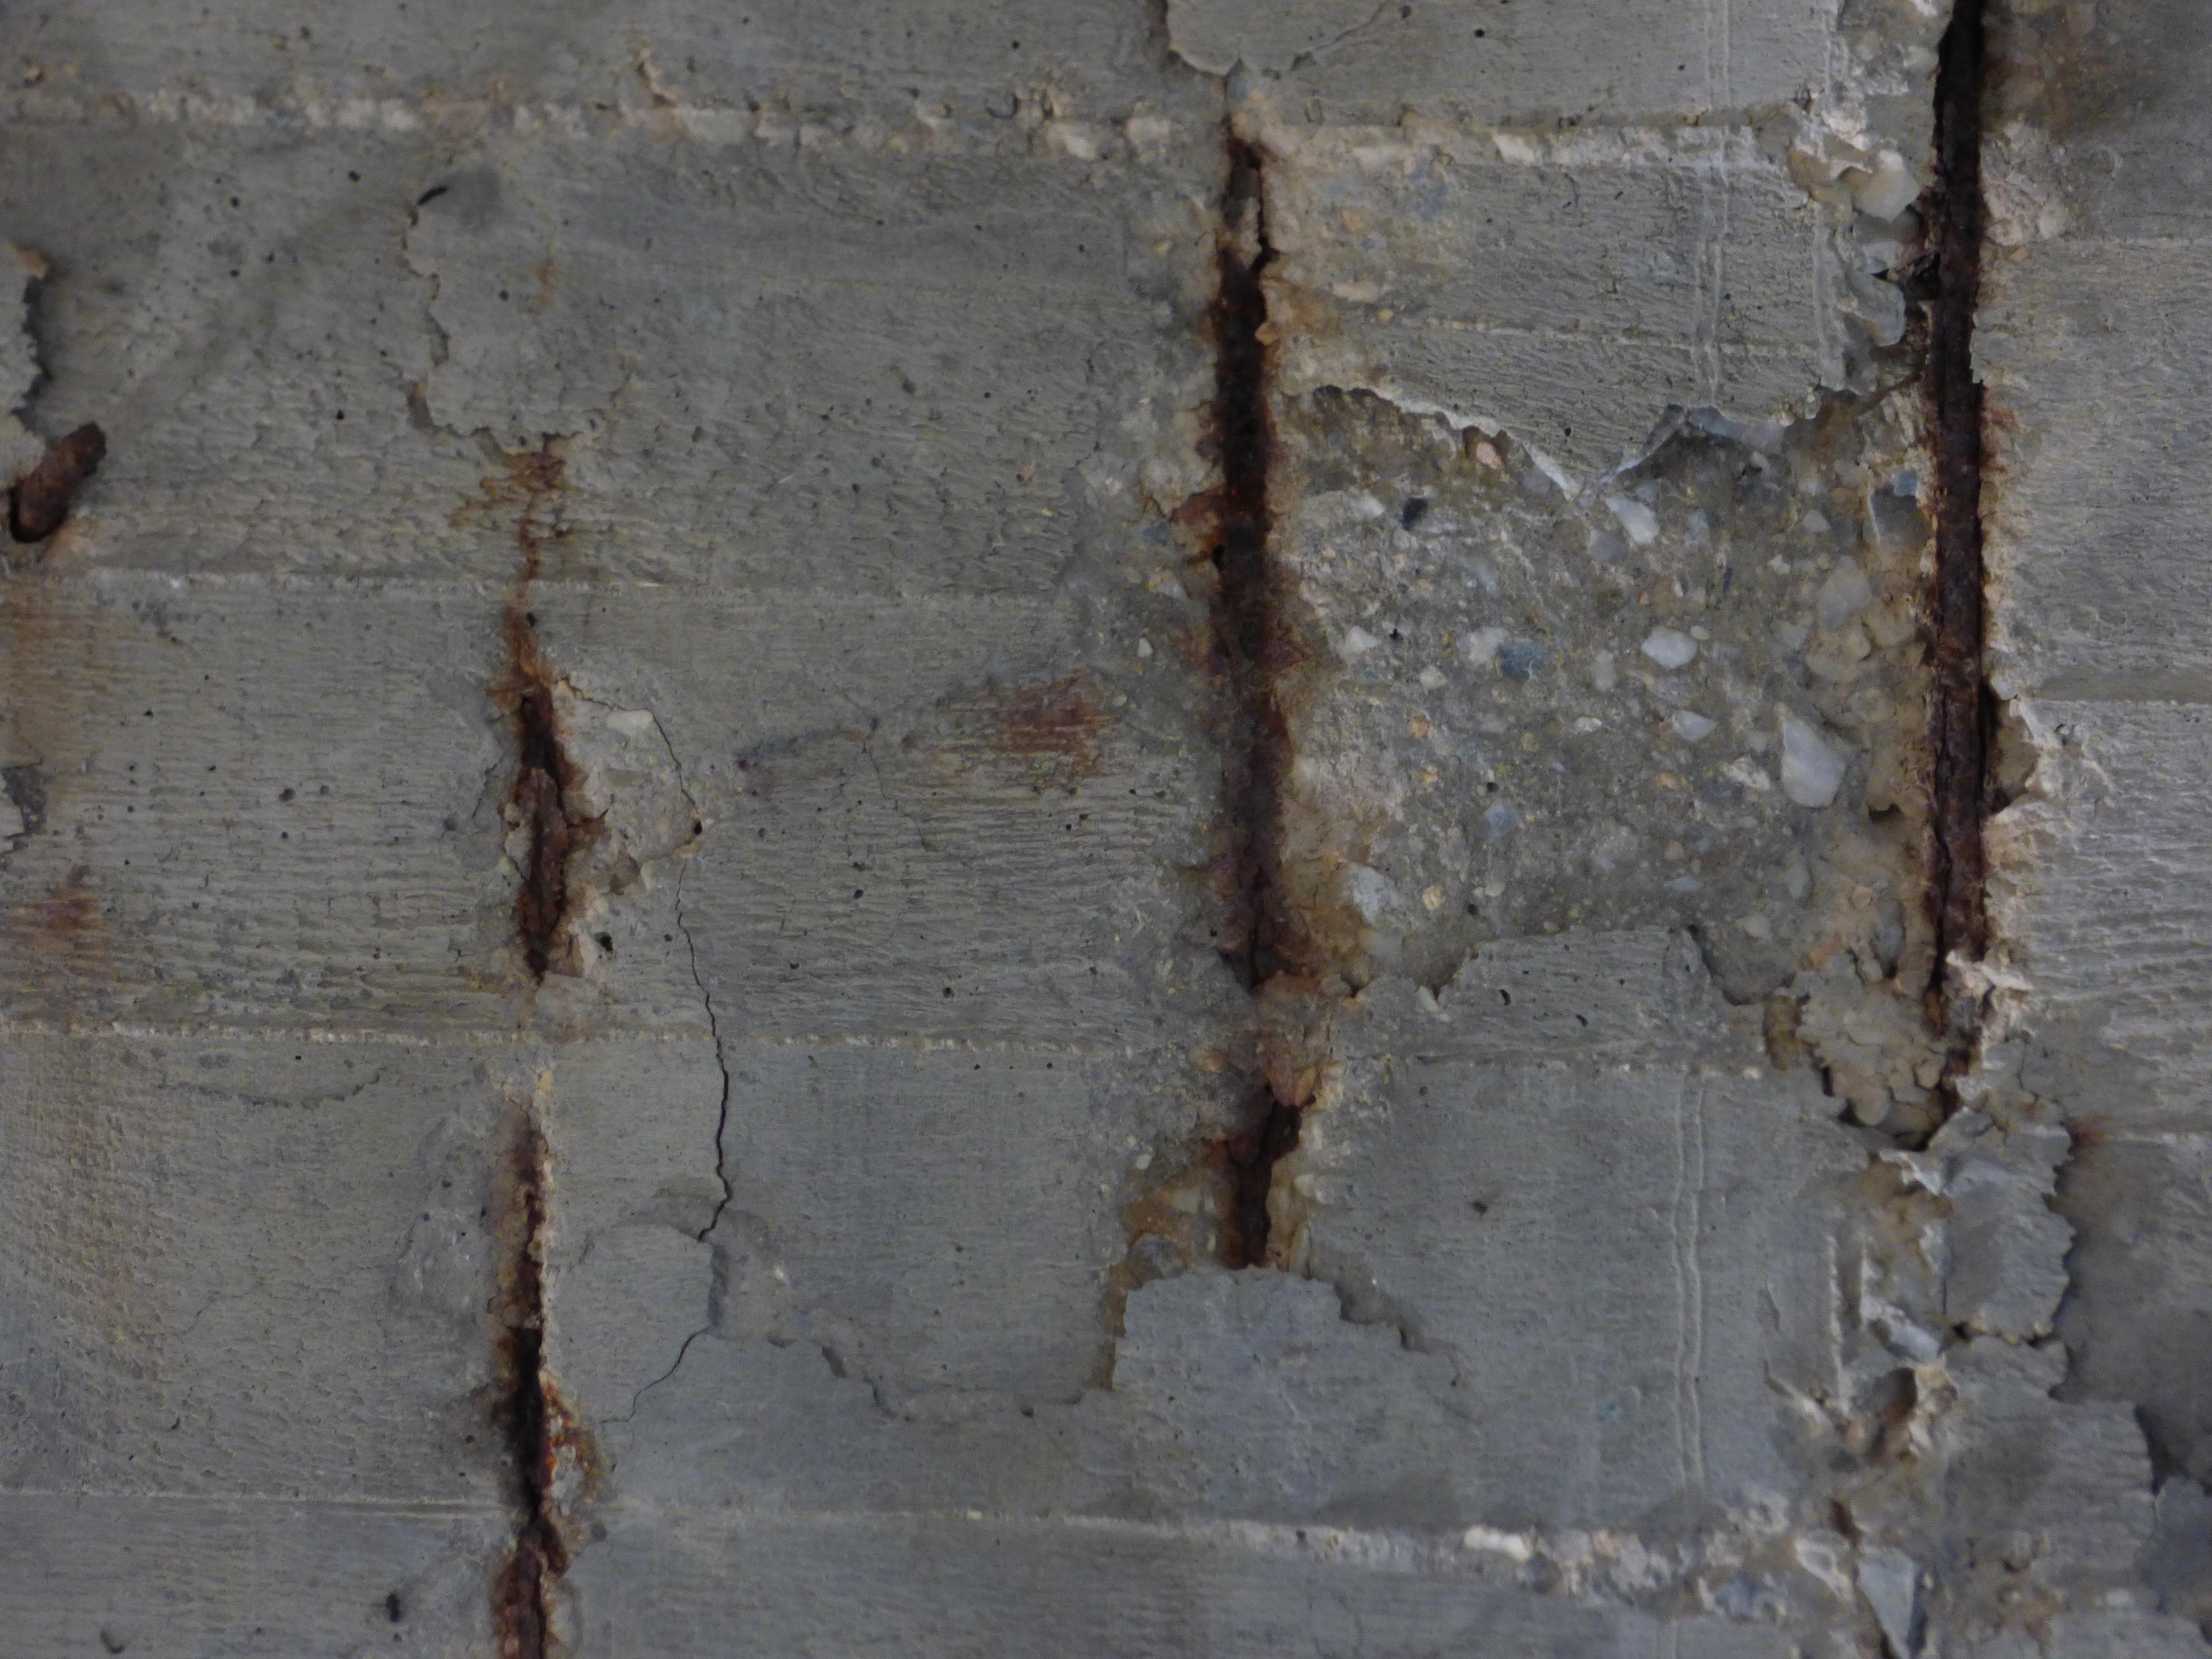rebar: (1207, 138, 1287, 1283), (1930, 16, 2001, 1063), (498, 1141, 575, 1652), (503, 683, 561, 979), (12, 427, 113, 551)
separation: (1271, 911, 2212, 1659), (686, 1265, 1475, 1558), (540, 894, 737, 1420), (395, 173, 577, 453), (5, 235, 57, 477)
spall: (1057, 117, 2045, 1272), (1813, 3, 2181, 392), (390, 1060, 617, 1659), (444, 683, 704, 974)
